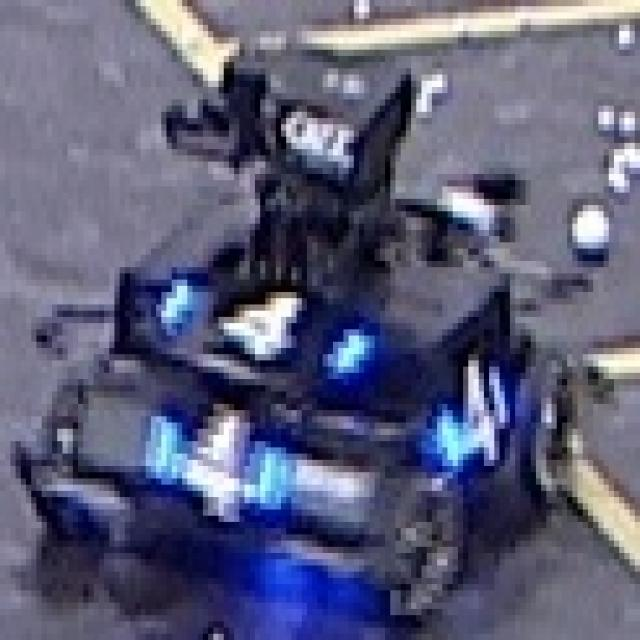B4: (132, 255, 362, 379), (120, 388, 296, 538), (422, 338, 515, 482)
